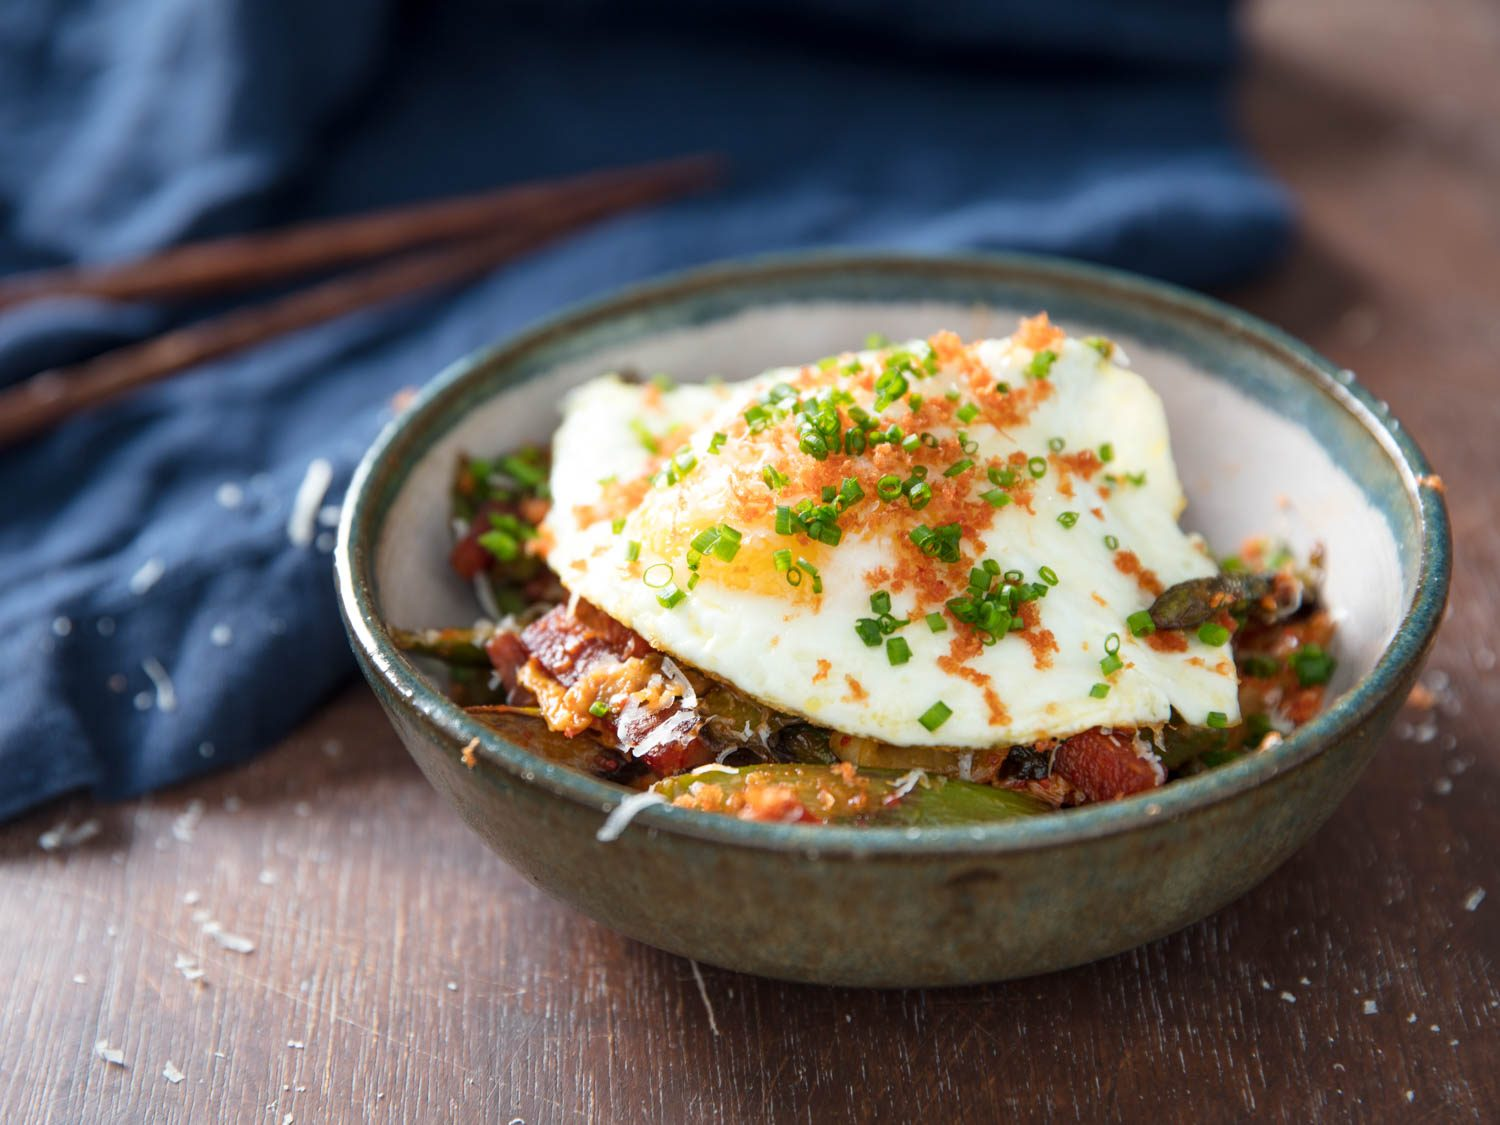fried egg: (568, 373, 1199, 723)
